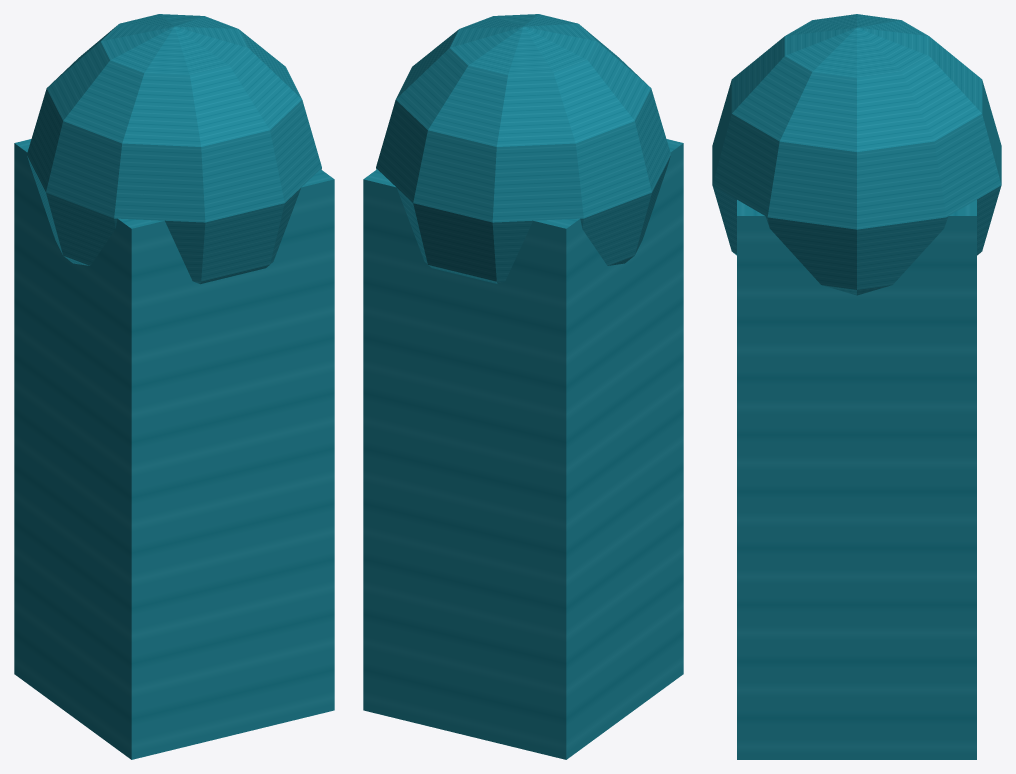
File: flor_brazo_der.obj
3 renders of one model, left to right at view 1: azimuth 30°, elevation 25°; view 2: azimuth 150°, elevation 25°; view 3: azimuth 270°, elevation 25°, orthographic. The views are drawn at different scales.
Parts seen in each view (by area): view 1: flor_brazo_der; view 2: flor_brazo_der; view 3: flor_brazo_der.
Part boxes in pixels (x1,y1,x2,y2): flor_brazo_der: (14, 14, 334, 759); flor_brazo_der: (363, 14, 683, 759); flor_brazo_der: (712, 14, 1001, 759).
Size of the model in its own units: 0.076 by 0.188 by 0.0723.
1 material, 1 textured.
